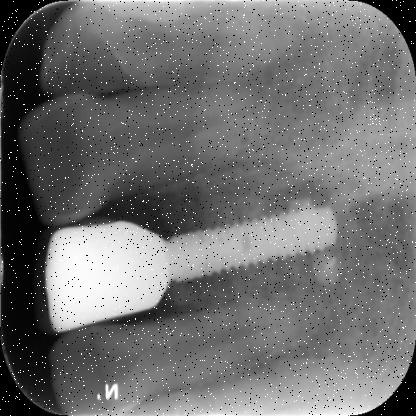ITI: (166, 200, 340, 284)
